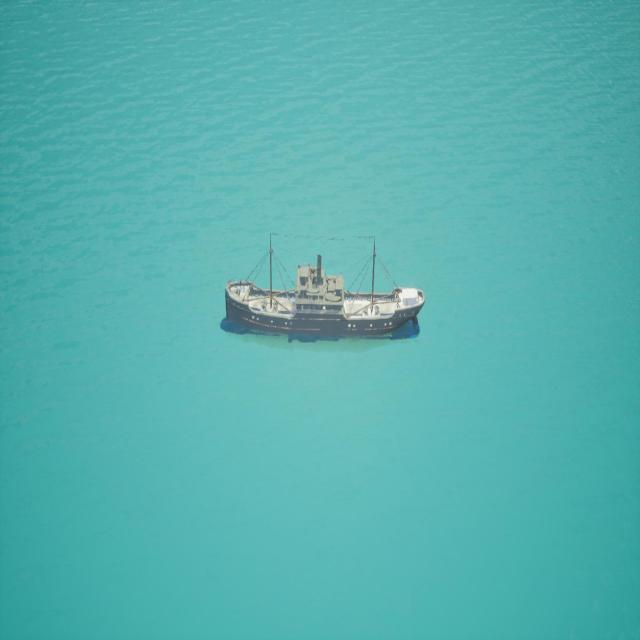fishing ship: (225, 238, 426, 341), (345, 243, 428, 337), (226, 237, 297, 330)
